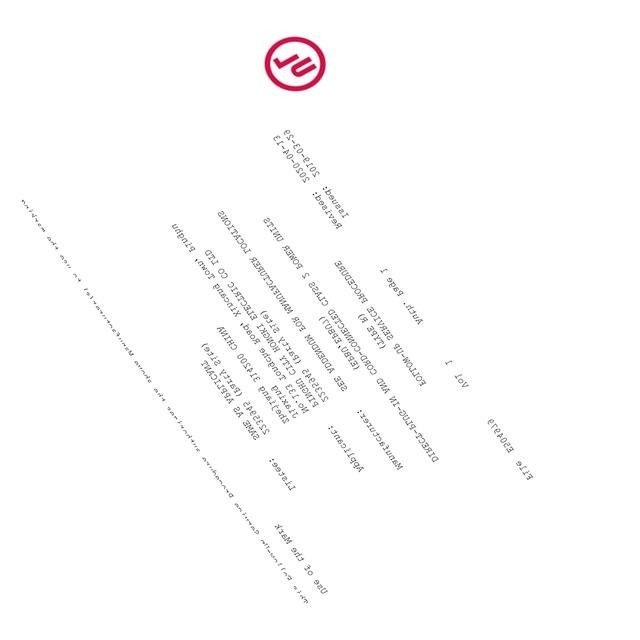ul: (266, 36, 325, 92)
